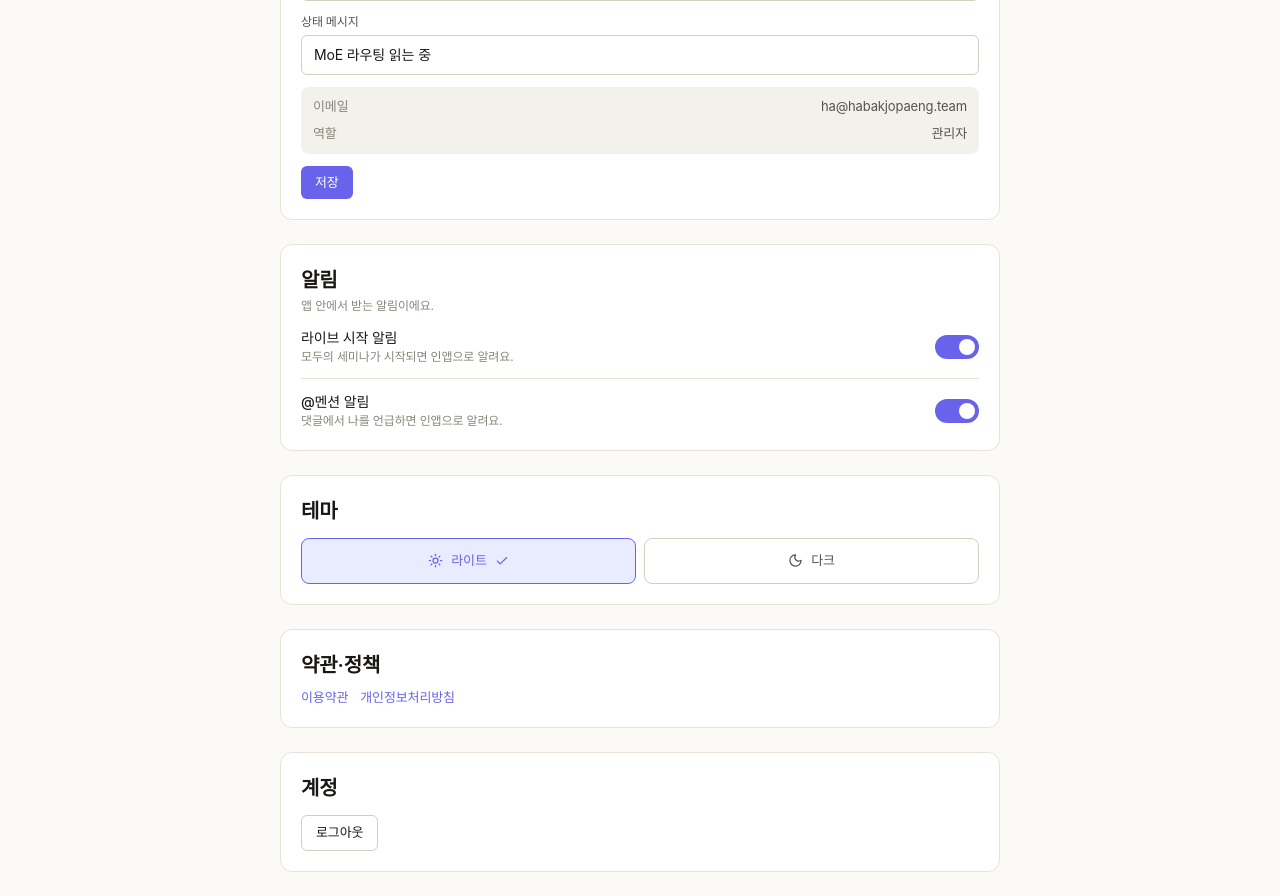
Test: SettingsView › 법적 링크를 누르면 약관 시트가 열린다
(page scrolled)
Click the button "이용약관" at (325,697), box [301,688,348,707]
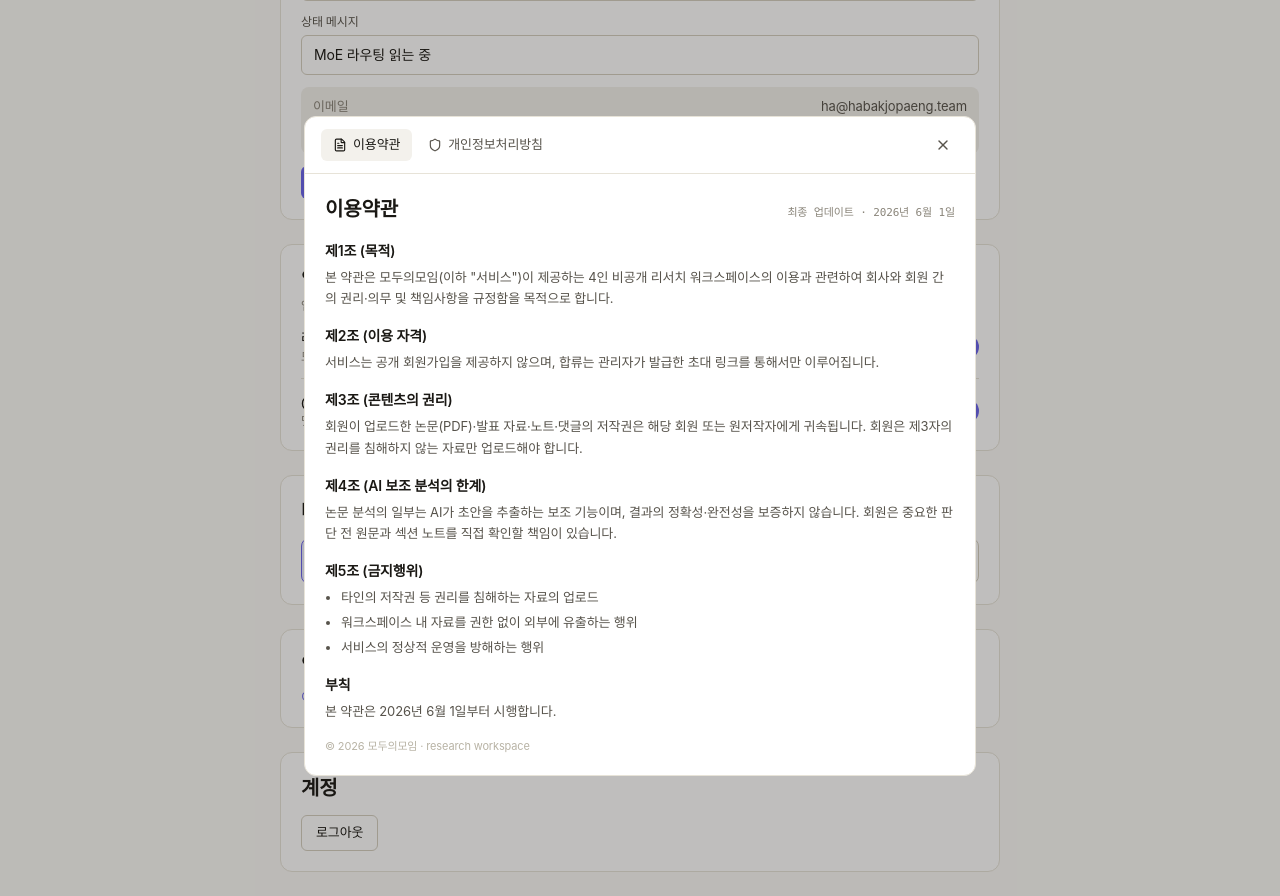
Result: the dialog "이용약관" is shown at [304,116,976,776]
